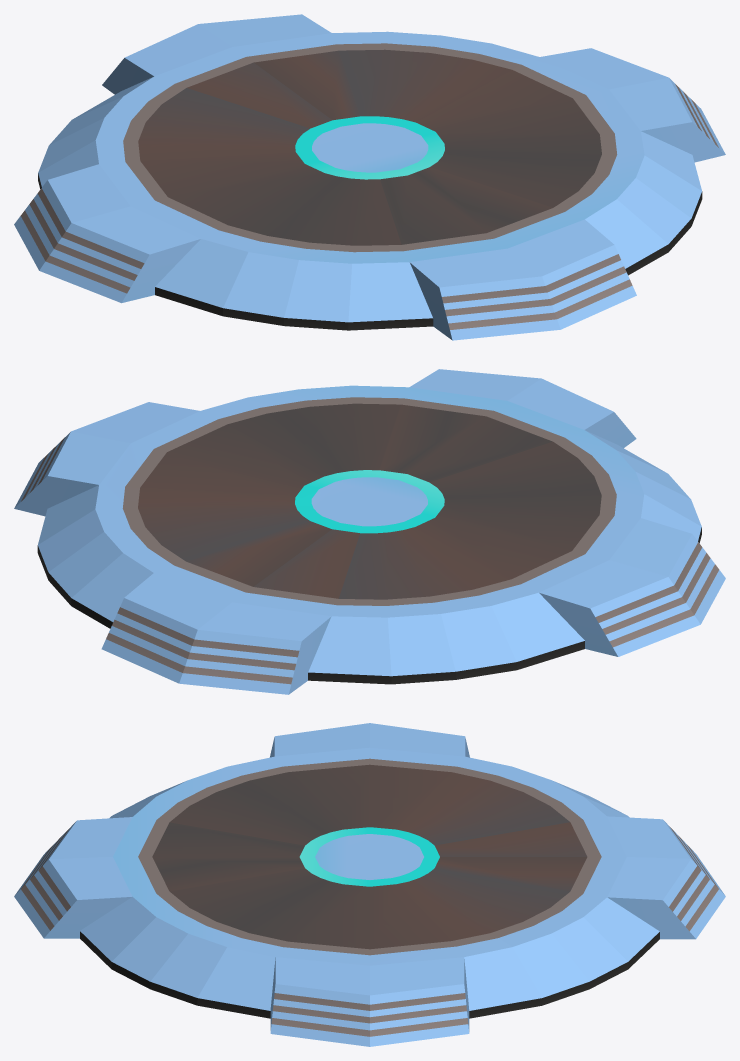
The model's file is portal.glb.
3 views of the same model, one above another, from view 1: azimuth 30°, elevation 25°; view 2: azimuth 150°, elevation 25°; view 3: azimuth 270°, elevation 25° (orthographic). The views are drawn at different scales.
Visible parts, largest first — view 1: Object__0; view 2: Object__0; view 3: Object__0.
Part boxes in pixels (<box>): Object__0: <box>14,14,725,340</box>; Object__0: <box>14,369,725,694</box>; Object__0: <box>14,723,725,1046</box>.
Bounding box in the file's own units: 5.09 × 0.3168 × 5.08.
Materials: 1 (1 with a texture image).
